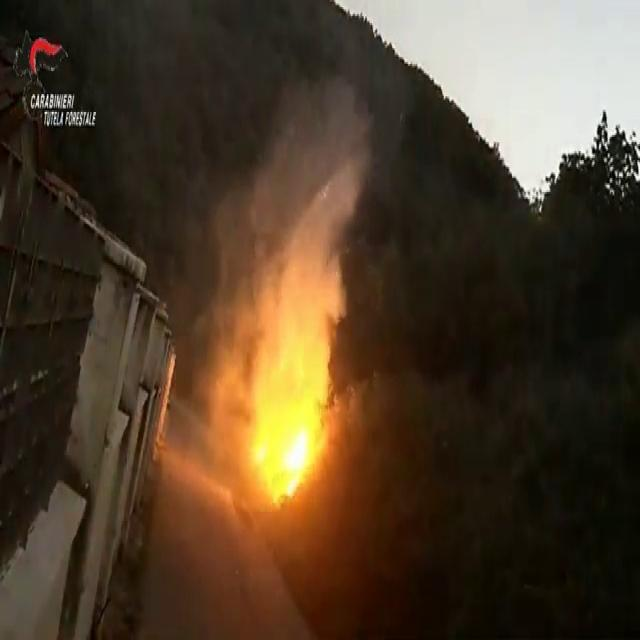Fire: (251, 402, 323, 499)
Smoke: (202, 82, 367, 466)
